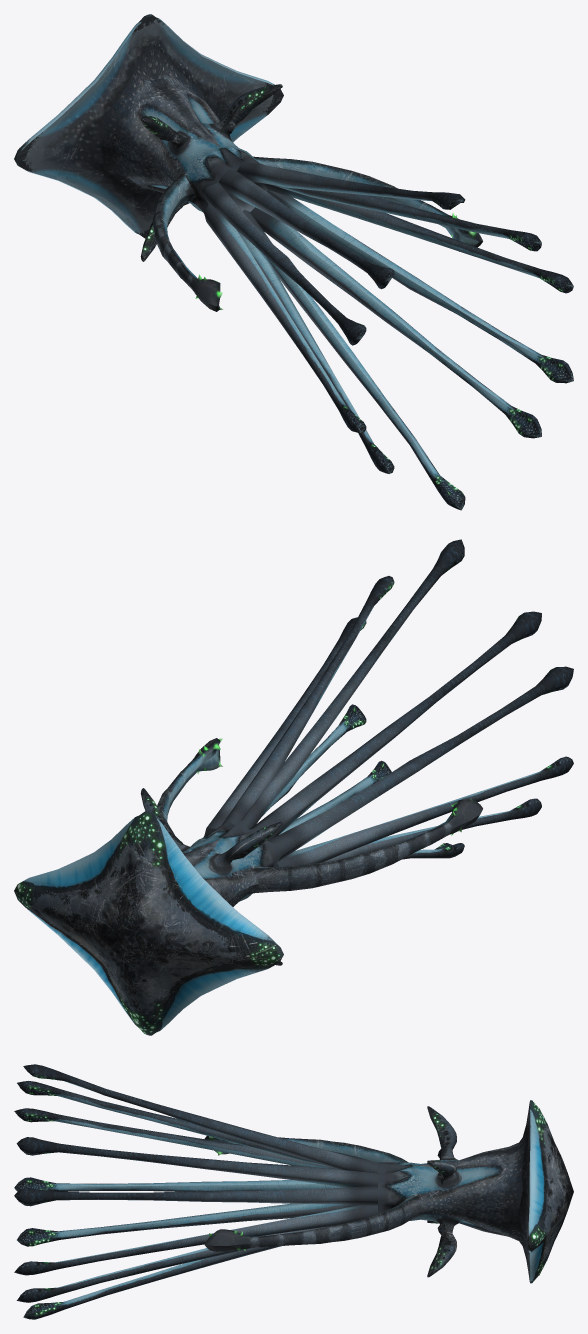
Rendered from whale.obj.
The picture shows the model from 3 angles, top to bottom: view 1: azimuth 30°, elevation 25°; view 2: azimuth 150°, elevation 25°; view 3: azimuth 270°, elevation 25°; orthographic projection. The views are drawn at different scales.
Visible parts, largest first — view 1: mesh-0_mesh-0-geometry-model.001; view 2: mesh-0_mesh-0-geometry-model.001; view 3: mesh-0_mesh-0-geometry-model.001.
Part boxes in pixels (x1,y1,x2,y2): mesh-0_mesh-0-geometry-model.001: (14,14,573,510); mesh-0_mesh-0-geometry-model.001: (14,539,573,1035); mesh-0_mesh-0-geometry-model.001: (14,1064,573,1319).
Bounding box in the file's own units: 4 × 4.37 × 8.72.
Materials: 1 (1 with a texture image).
